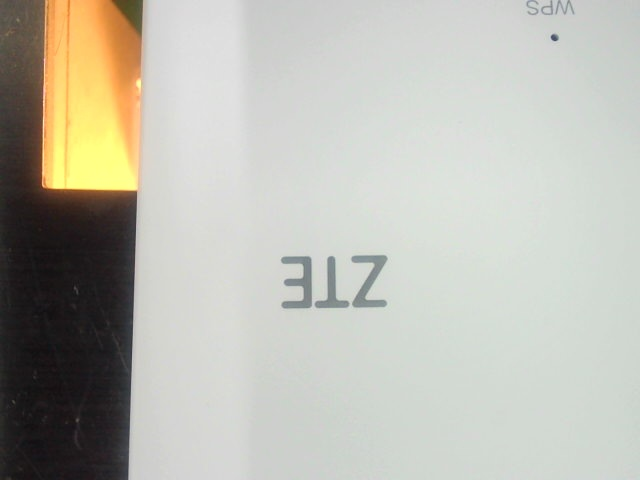AO_ZTESmall: (268, 248, 399, 321)
